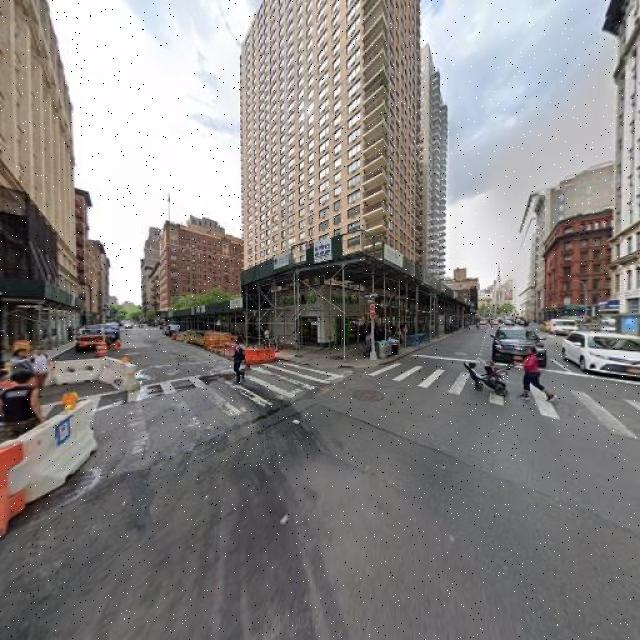Building: (292, 1, 418, 347), (1, 1, 52, 355), (624, 1, 640, 335)
